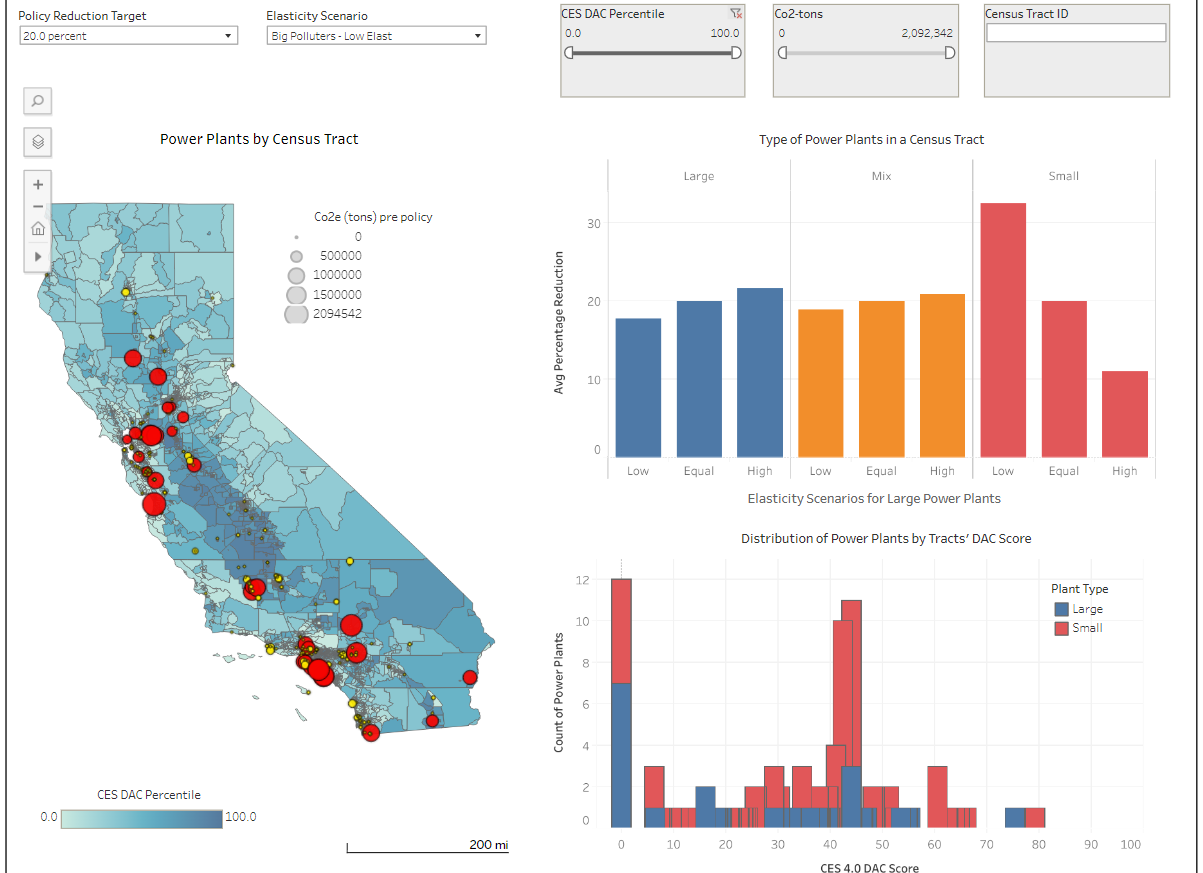

Layout of this report page (visuals, bound fields, positions):
{"tool":"tableau","page":{"name":"Dashboard 1","canvas":[1250,1000],"ordinal":0},"visuals":[{"type":"filter","title":"Different Policy and Elas Scenario","param":"[federated.0u21pv61vc5c63192o3kn12p4ga9].[none:CIscoreP:qk]","box":[581.7,42,193.3,98]},{"type":"filter","title":"Different Policy and Elas Scenario","param":"[federated.0u21pv61vc5c63192o3kn12p4ga9].[none:Co2-tons:qk]","box":[802.9,42,193.3,98]},{"type":"filter","title":"Different Policy and Elas Scenario","param":"[federated.0u21pv61vc5c63192o3kn12p4ga9].[none:GEOID:nk]","box":[1021.2,42,193.3,98]},{"type":"parameter","param":"[Parameters].[Parameter 1]","box":[21,46,229,81]},{"type":"parameter","param":"[Parameters].[Parameter 2]","box":[278,46,230,81]},{"type":"worksheet","title":"Different Policy and Elas Scenario","mark":"Automatic","box":[17,104,522,830]},{"type":"worksheet","title":"Sheet 10","mark":"Bar","cols":["Calculation_707065166999261293"],"box":[564.4,161,635.6,405]},{"type":"text","box":[102,168,338,30]},{"type":"legend","title":"Different Policy and Elas Scenario","param":"[federated.0u21pv61vc5c63192o3kn12p4ga9].[none:Co2e-tons:qk]","box":[295.2,255,187.5,164]},{"type":"worksheet","title":"Sheet 10 (2)","mark":"Bar","rows":["Plant name"],"cols":["CIscore"],"box":[564.4,574,621.2,379]},{"type":"legend","title":"Sheet 10 (2)","param":"[federated.0u21pv61vc5c63192o3kn12p4ga9].[none:Calculation_707065166448054337:nk","box":[1091.4,640,122.1,77]},{"type":"legend","title":"Different Policy and Elas Scenario","param":"[federated.0u21pv61vc5c63192o3kn12p4ga9].[none:CIscoreP:qk]","box":[40.4,853,232.7,71]}]}

Visuals, with their boxes on the page's 1250x1000 design canvas (x1, y1, x2, y2). These are canvas units, not pixel positions in the 1203x873 screenshot, which may show the page scaled, cropped or inside an application window:
"Different Policy and Elas Scenario" filter: box=[582, 42, 775, 140]
"Different Policy and Elas Scenario" filter: box=[803, 42, 996, 140]
"Different Policy and Elas Scenario" filter: box=[1021, 42, 1214, 140]
parameter: box=[21, 46, 250, 127]
parameter: box=[278, 46, 508, 127]
"Different Policy and Elas Scenario" worksheet: box=[17, 104, 539, 934]
"Sheet 10" worksheet (Bar marks): box=[564, 161, 1200, 566]
text: box=[102, 168, 440, 198]
"Different Policy and Elas Scenario" legend: box=[295, 255, 483, 419]
"Sheet 10 (2)" worksheet (Bar marks): box=[564, 574, 1186, 953]
"Sheet 10 (2)" legend: box=[1091, 640, 1214, 717]
"Different Policy and Elas Scenario" legend: box=[40, 853, 273, 924]
